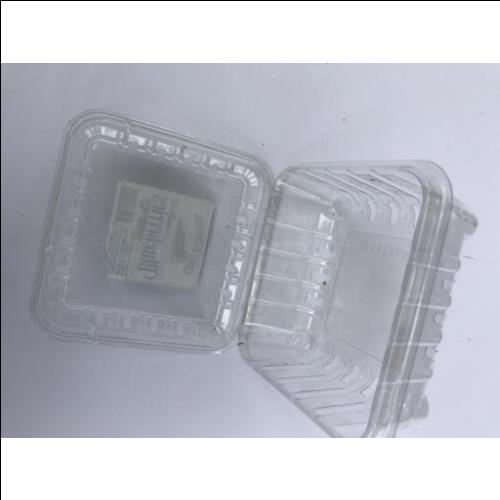plastic: (50, 108, 449, 431)
